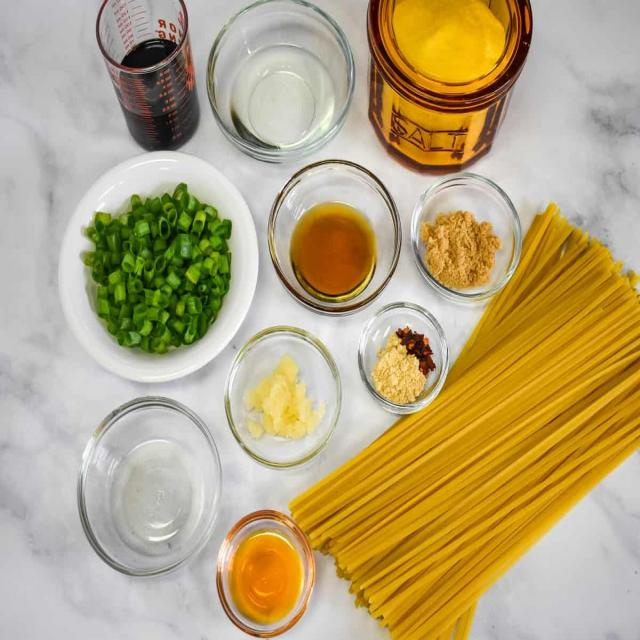garlic: (247, 353, 331, 444)
noodle: (285, 201, 640, 639)
spring onion: (80, 180, 236, 352)
